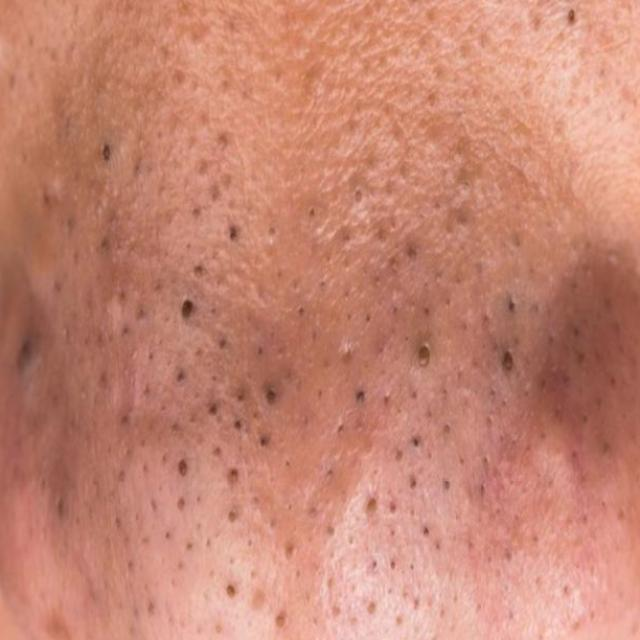blackhead: (127, 185, 541, 635)
